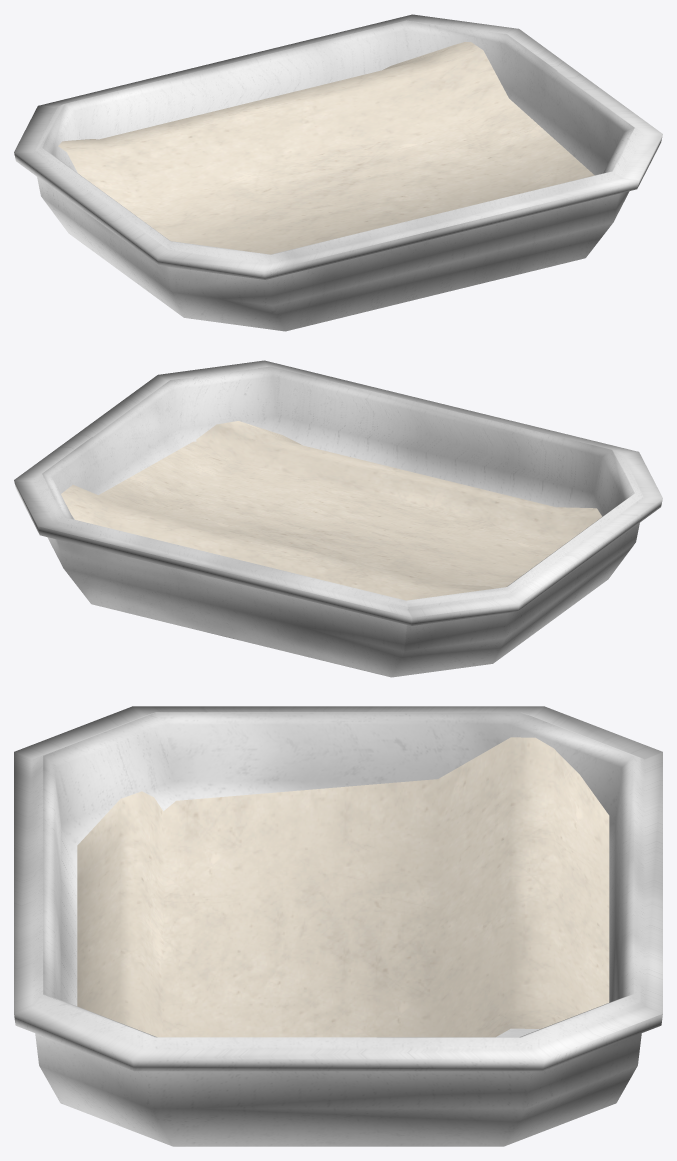
The model's file is DishStand.glb.
3 renders of one model, top to bottom at view 1: azimuth 30°, elevation 25°; view 2: azimuth 150°, elevation 25°; view 3: azimuth 270°, elevation 25°, orthographic. The views are drawn at different scales.
Parts seen in each view (by area): view 1: Cube; view 2: Cube; view 3: Cube.
Part boxes in pixels (box(x1,y1,x2,y2)): Cube: box(14, 14, 662, 331); Cube: box(14, 360, 662, 677); Cube: box(14, 706, 662, 1146).
Size of the model in its own units: 1.78 by 0.2907 by 1.38.
2 materials, 2 textured.
